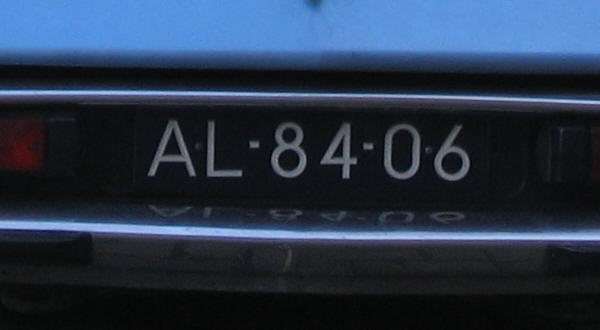license_plate: (133, 110, 489, 199)
